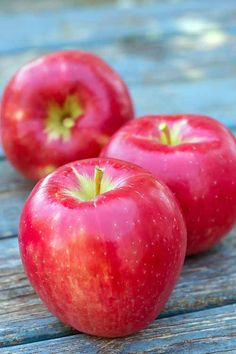Apple: (21, 155, 185, 338), (108, 110, 236, 261), (4, 49, 137, 185)
